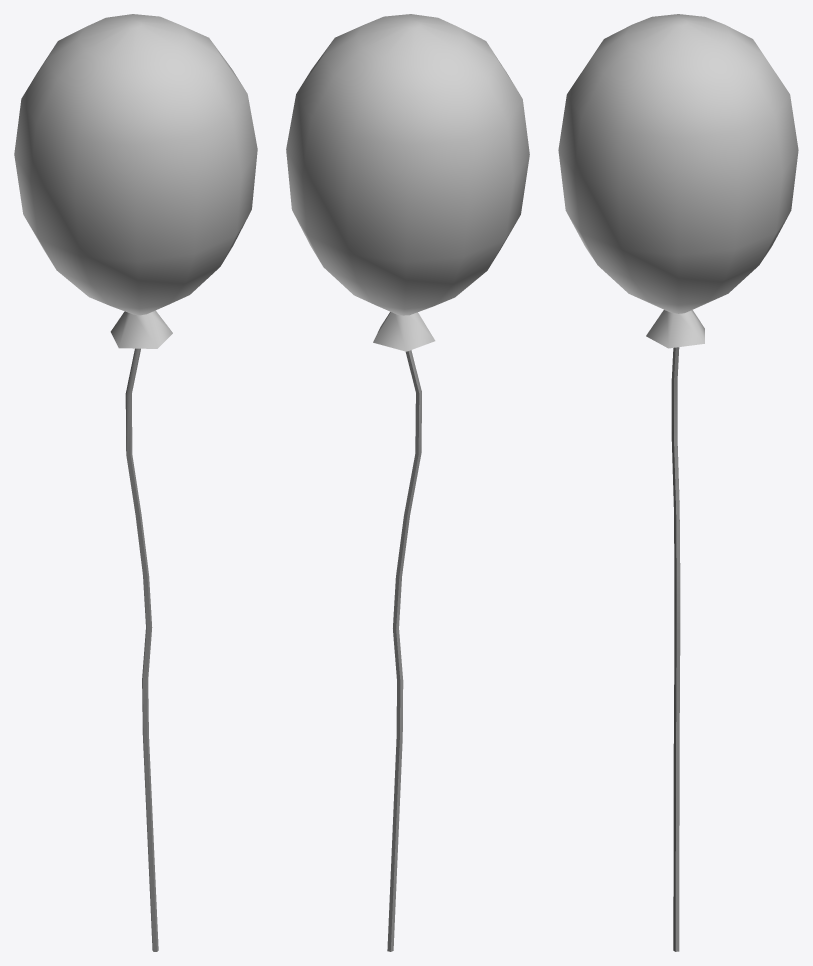
Rendered from Balloon_Single_02.fbx.
3 views of the same model, side by side, from view 1: azimuth 30°, elevation 25°; view 2: azimuth 150°, elevation 25°; view 3: azimuth 270°, elevation 25° (orthographic).
Visible parts, largest first — view 1: Balloon_Single_02; view 2: Balloon_Single_02; view 3: Balloon_Single_02.
Part boxes in pixels (x1,y1,x2,y2): Balloon_Single_02: [14, 14, 257, 951]; Balloon_Single_02: [286, 14, 529, 951]; Balloon_Single_02: [558, 14, 798, 951].
Bounding box in the file's own units: 0.2463 × 1.04 × 0.2464.
